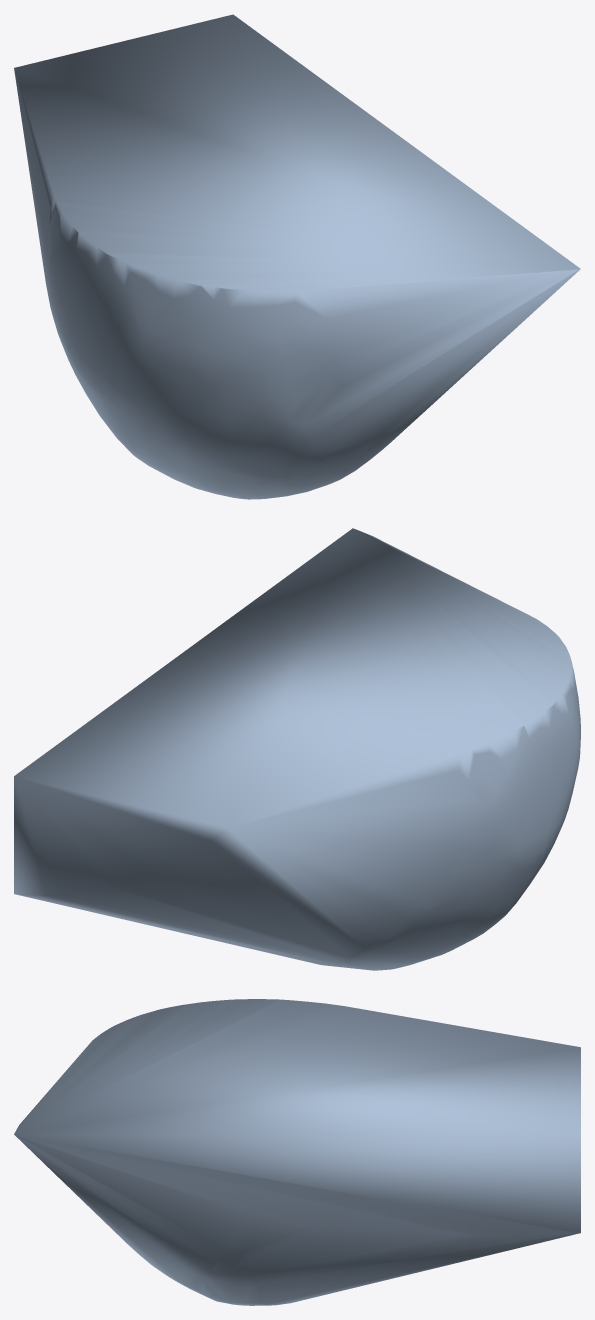
File: bee_toy_1_coacd_single_link_urdf_convex_piece_6.obj
The picture shows the model from 3 angles, top to bottom: view 1: azimuth 30°, elevation 25°; view 2: azimuth 150°, elevation 25°; view 3: azimuth 270°, elevation 25°; orthographic projection. The views are drawn at different scales.
Size of the model in its own units: 0.0647 by 0.05 by 0.1124.
